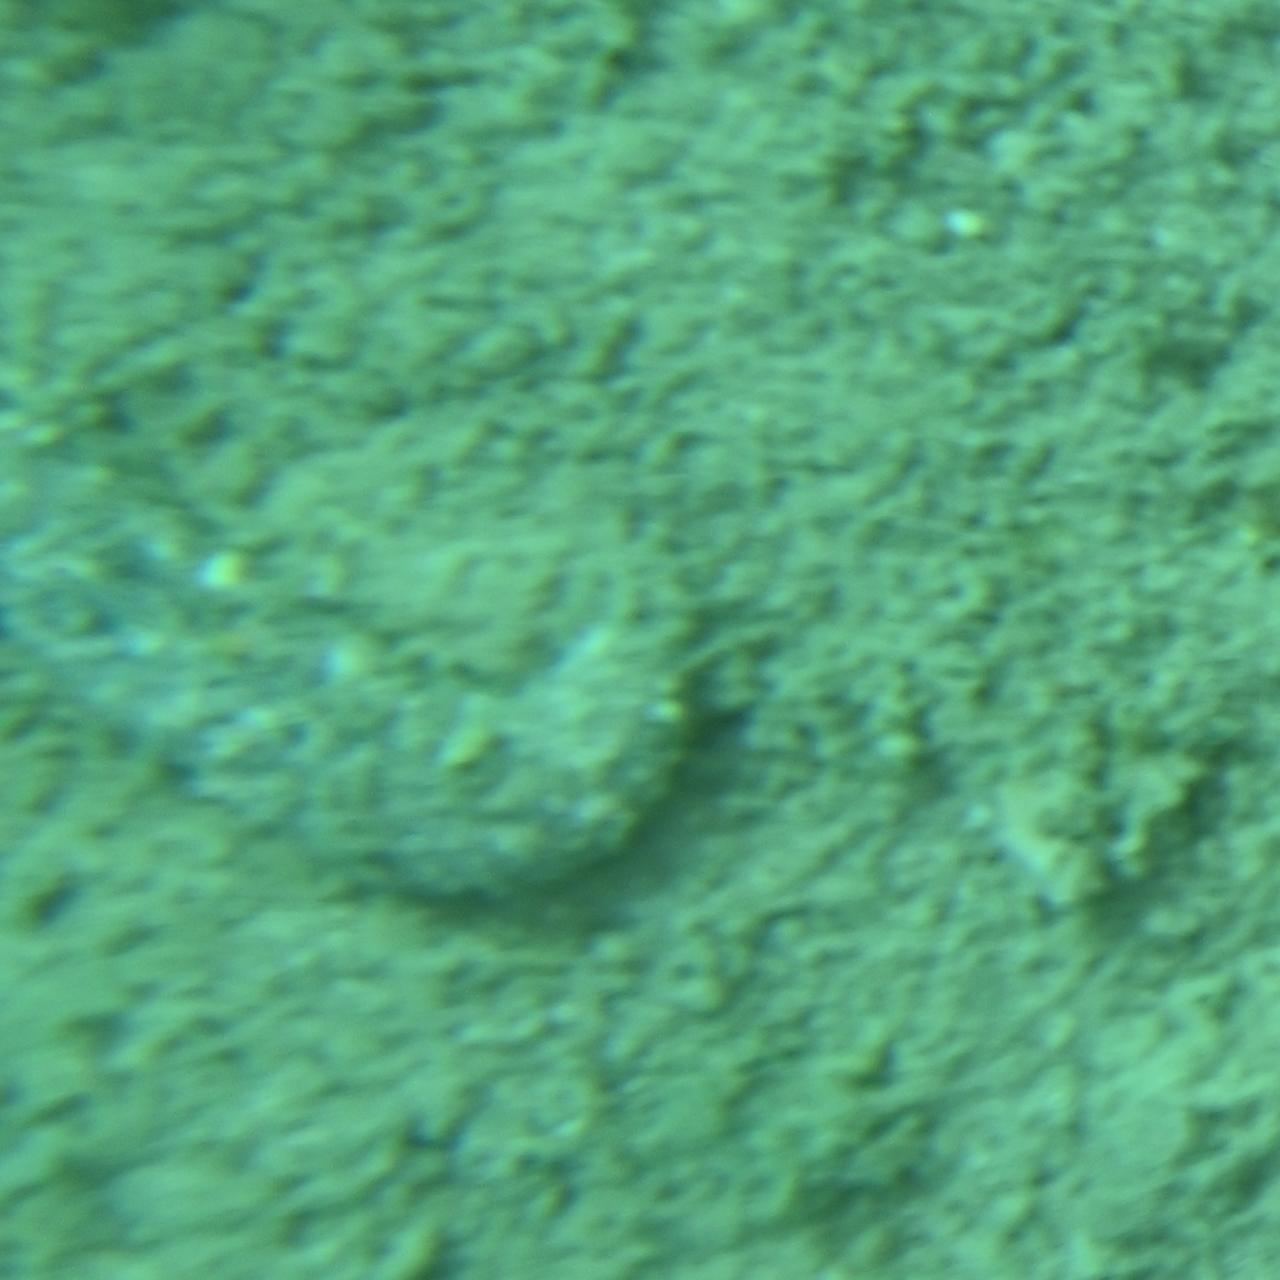Holothuria tubulosa: (2, 364, 724, 916)
